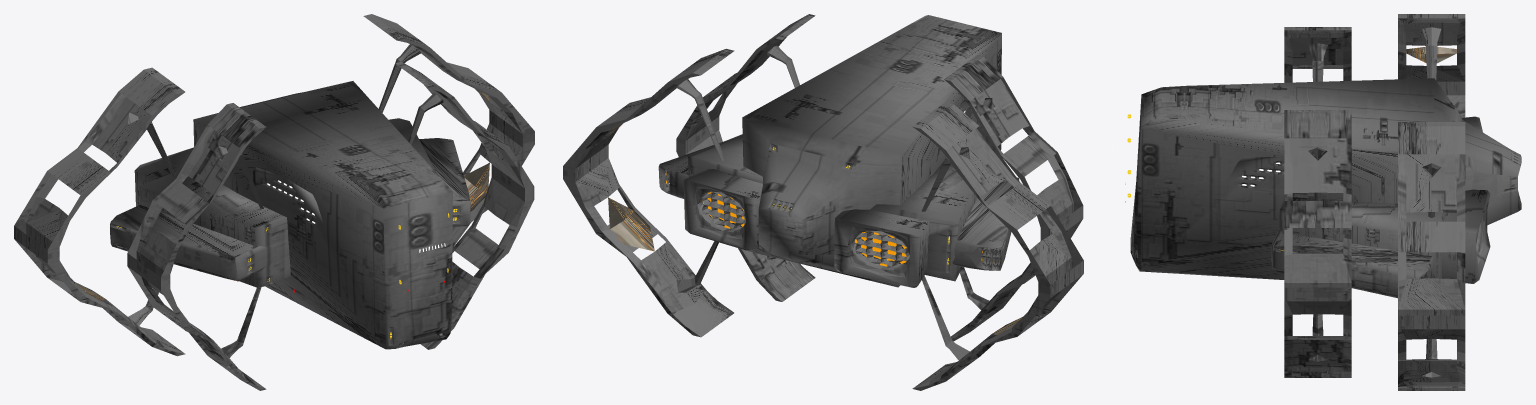
Rendered from mother-1-3.glb.
3 views of the same model, side by side, from view 1: azimuth 30°, elevation 25°; view 2: azimuth 150°, elevation 25°; view 3: azimuth 270°, elevation 25° (orthographic).
Parts seen in each view (by area): view 1: mother-1-3_0, mother-1-3_1; view 2: mother-1-3_0, mother-1-3_1; view 3: mother-1-3_0, mother-1-3_1.
Boxes of the visible parts, left/top/right/bottom form: mother-1-3_0: left=14, top=14, right=534, bottom=390; mother-1-3_1: left=75, top=89, right=489, bottom=339; mother-1-3_0: left=563, top=14, right=1083, bottom=390; mother-1-3_1: left=608, top=124, right=1022, bottom=335; mother-1-3_0: left=1112, top=14, right=1521, bottom=390; mother-1-3_1: left=1127, top=46, right=1456, bottom=250.
Size of the model in its own units: 1 by 0.5141 by 0.7206.
Materials: 2 (2 with a texture image).
